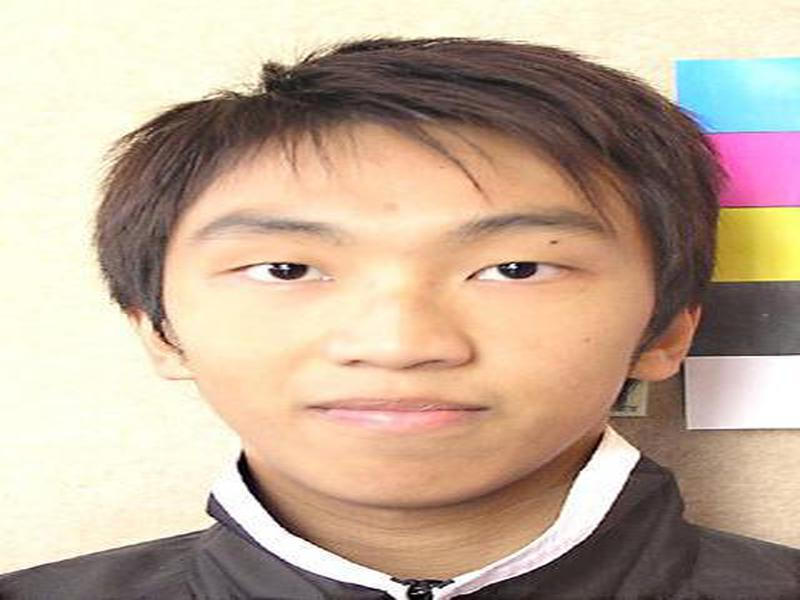without_mask: (149, 138, 648, 510)
